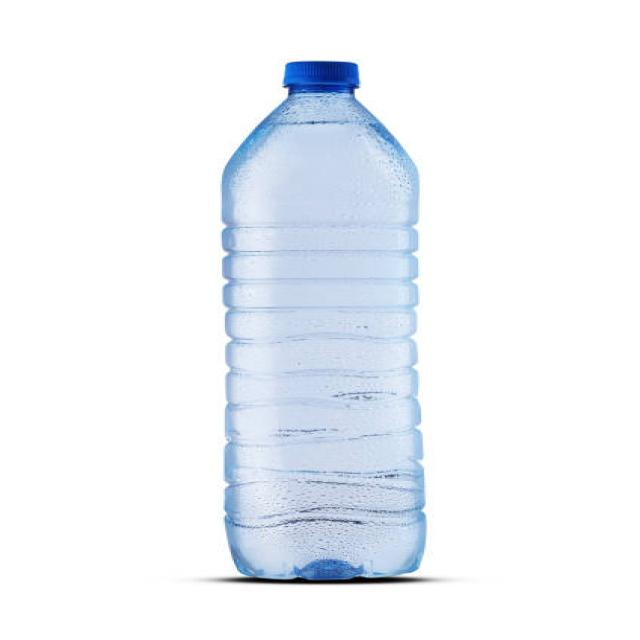bottle: (213, 55, 431, 593)
